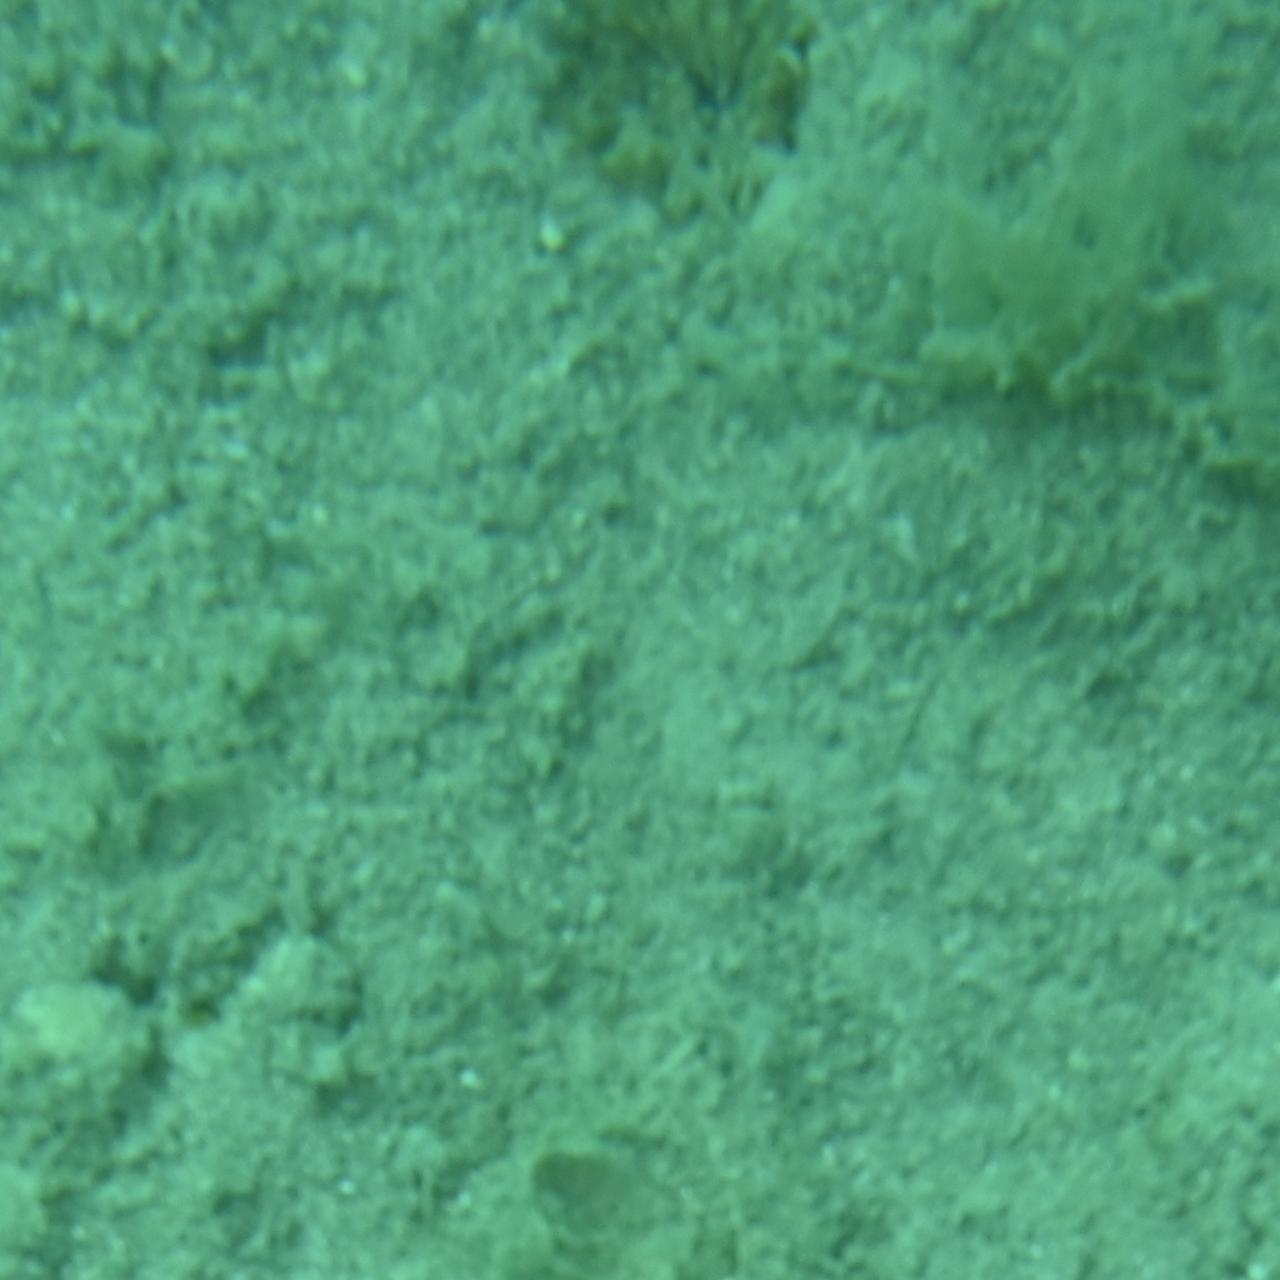Condylactis aurantiaca: (465, 0, 815, 232)
